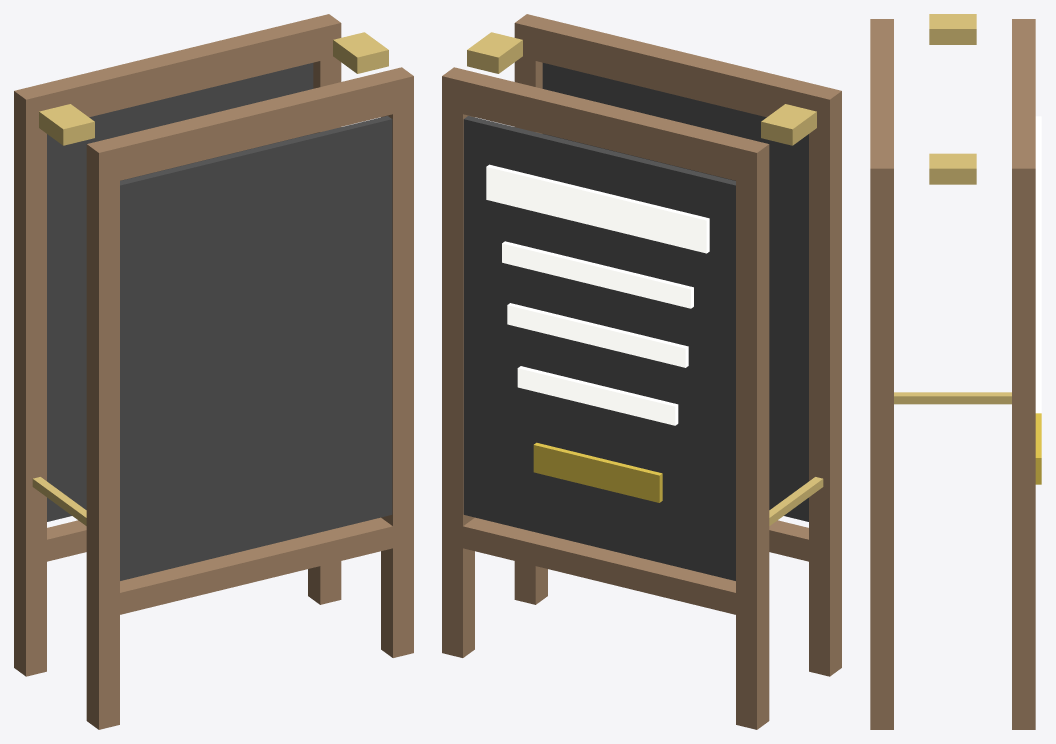
The model's file is prop_vendor_sign_01.glb.
The picture shows the model from 3 angles, left to right: view 1: azimuth 30°, elevation 25°; view 2: azimuth 150°, elevation 25°; view 3: azimuth 270°, elevation 25°; orthographic projection. The views are drawn at different scales.
Parts seen in each view (by area): view 1: Sign_Chalkboard_Panel_B.003, Sign_Chalkboard_Panel_F.003, Sign_Leg_Back_L.003, Sign_Leg_Front_L.003, Sign_Top_Rail_B.003, Sign_Top_Rail_F.003, Sign_Leg_Back_R.003, Sign_Bottom_Rail_B.003, Sign_Leg_Front_R.003, Sign_Bottom_Rail_F.003, Sign_Hinge_L.003, Sign_Hinge_R.003 (+1 smaller); view 2: Sign_Chalkboard_Panel_F.003, Sign_Chalkboard_Panel_B.003, Sign_Leg_Front_L.003, Sign_Leg_Back_L.003, Sign_Top_Rail_F.003, Sign_Leg_Front_R.003, Sign_Top_Rail_B.003, Sign_Bottom_Rail_F.003, Sign_Chalk_Header.003, Sign_Chalk_Line_1.003, Sign_Chalk_Line_2.003, Sign_Chalk_Price.003 (+6 smaller); view 3: Sign_Leg_Front_R.003, Sign_Leg_Back_R.003, Sign_Top_Rail_B.003, Sign_Top_Rail_F.003, Sign_Hinge_R.003, Sign_Stay_Bar.003, Sign_Hinge_L.003, Sign_Chalk_Header.003, Sign_Bottom_Rail_B.003, Sign_Bottom_Rail_F.003, Sign_Chalk_Price.003, Sign_Chalk_Line_2.003 (+2 smaller).
Part boxes in pixels (x1,y1,x2,y2): Sign_Chalkboard_Panel_B.003: [120, 116, 392, 580]; Sign_Chalkboard_Panel_F.003: [47, 63, 313, 521]; Sign_Leg_Back_L.003: [86, 153, 119, 729]; Sign_Leg_Front_L.003: [14, 100, 46, 676]; Sign_Top_Rail_B.003: [86, 67, 413, 185]; Sign_Top_Rail_F.003: [14, 14, 341, 132]; Sign_Leg_Back_R.003: [381, 81, 413, 657]; Sign_Bottom_Rail_B.003: [86, 517, 392, 619]; Sign_Leg_Front_R.003: [308, 57, 341, 604]; Sign_Bottom_Rail_F.003: [14, 520, 86, 566]; Sign_Hinge_L.003: [39, 104, 94, 145]; Sign_Hinge_R.003: [333, 32, 388, 73]; Sign_Chalkboard_Panel_F.003: [463, 116, 735, 580]; Sign_Chalkboard_Panel_B.003: [542, 63, 808, 521]; Sign_Leg_Front_L.003: [736, 153, 769, 729]; Sign_Leg_Back_L.003: [809, 100, 841, 676]; Sign_Top_Rail_F.003: [442, 67, 769, 185]; Sign_Leg_Front_R.003: [442, 81, 474, 657]; Sign_Top_Rail_B.003: [514, 14, 841, 132]; Sign_Bottom_Rail_F.003: [442, 517, 769, 619]; Sign_Chalk_Header.003: [486, 164, 709, 253]; Sign_Chalk_Line_1.003: [502, 241, 693, 308]; Sign_Chalk_Line_2.003: [507, 303, 688, 367]; Sign_Chalk_Price.003: [533, 442, 662, 502]; Sign_Leg_Front_R.003: [1012, 174, 1035, 729]; Sign_Leg_Back_R.003: [870, 174, 893, 729]; Sign_Top_Rail_B.003: [870, 19, 893, 200]; Sign_Top_Rail_F.003: [1012, 19, 1035, 200]; Sign_Hinge_R.003: [929, 153, 976, 184]; Sign_Stay_Bar.003: [894, 392, 1011, 404]; Sign_Hinge_L.003: [929, 14, 976, 44]; Sign_Chalk_Header.003: [1035, 116, 1041, 253]; Sign_Bottom_Rail_B.003: [870, 601, 893, 622]; Sign_Bottom_Rail_F.003: [1012, 601, 1035, 622]; Sign_Chalk_Price.003: [1035, 413, 1041, 484]; Sign_Chalk_Line_2.003: [1035, 303, 1041, 359].
Size of what is drawn, in the model's own units: 0.62 by 1.05 by 0.29.
